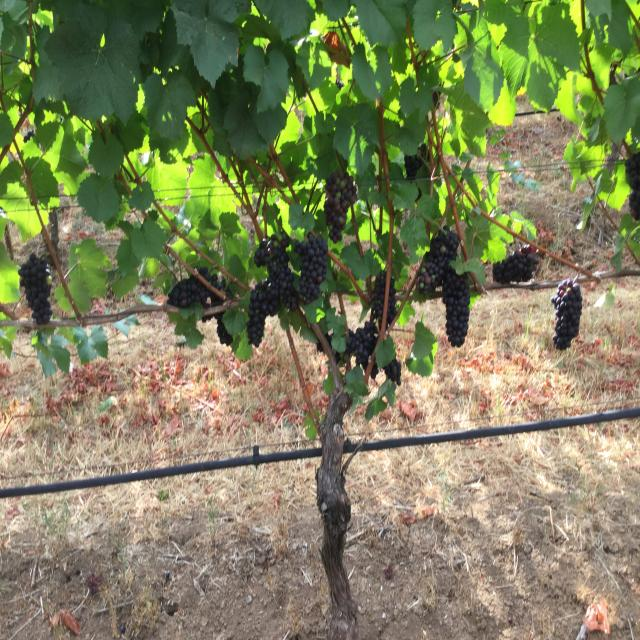grapes: (246, 233, 299, 347), (416, 227, 459, 293), (324, 170, 358, 243), (295, 233, 328, 305), (19, 253, 51, 325), (442, 265, 470, 347), (551, 278, 582, 350), (492, 245, 539, 283)
stem: (18, 152, 82, 323)
